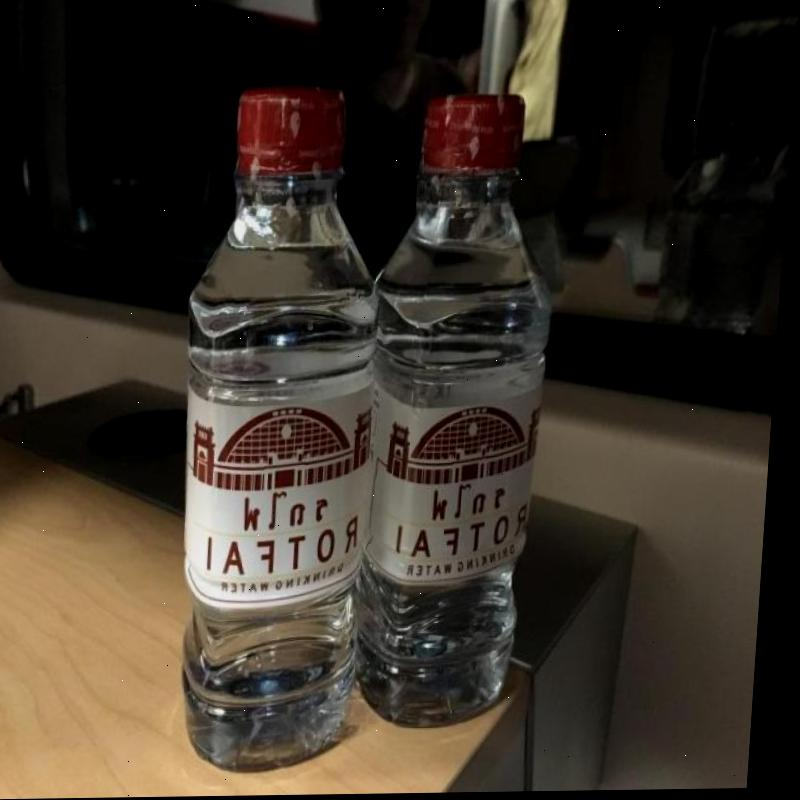botella: (167, 89, 392, 772), (354, 94, 562, 726)
